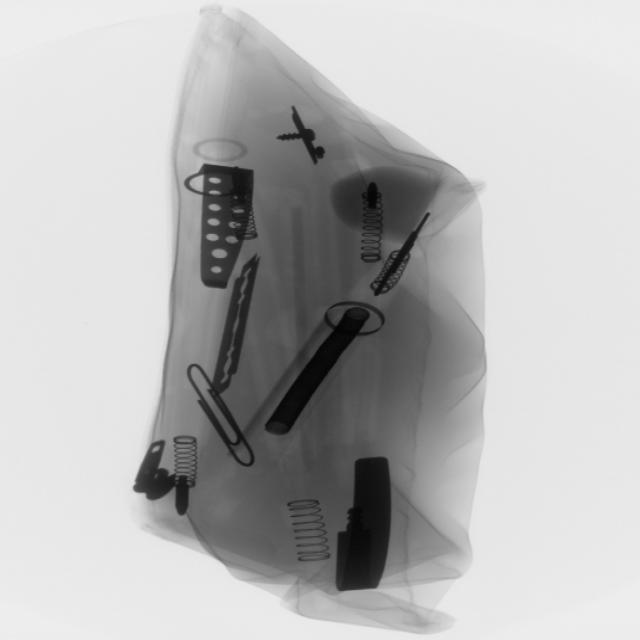BLADE: (206, 245, 263, 404)
